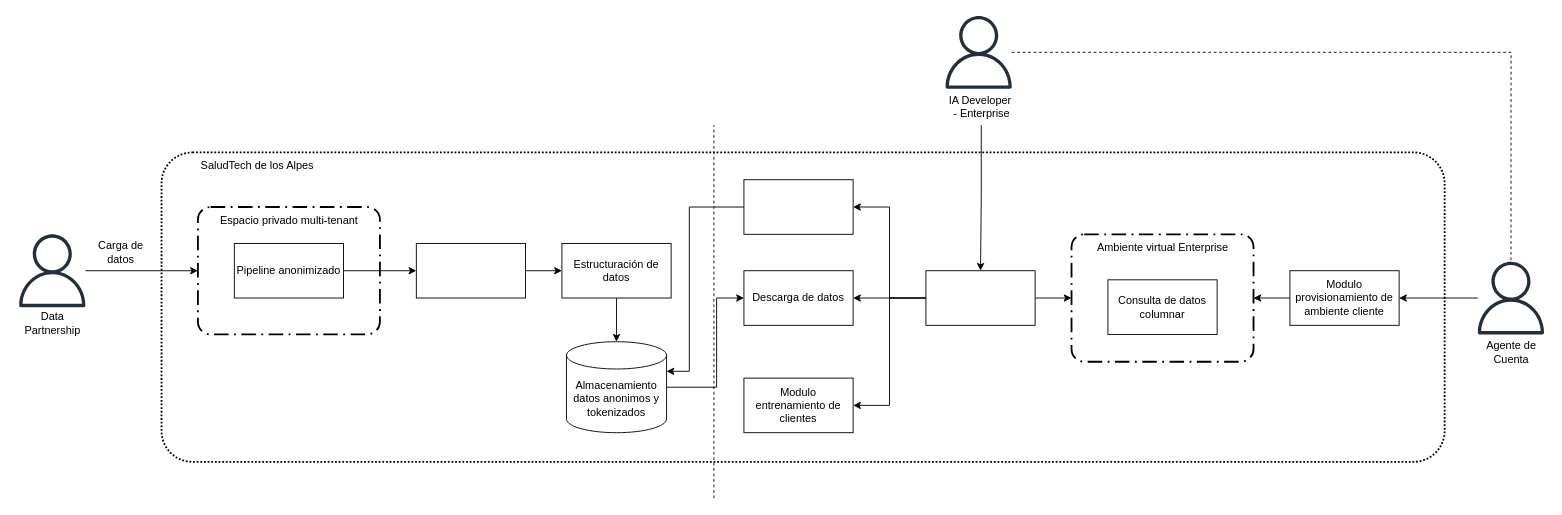
The diagram is 1562 pixels wide and 515 high, and some of its shapes have lost their labels. The centre of each missing label's shape, as x and y in pixels:
Sistema consulta de datos: (798,206)
Venta de licencia: (980,297)
Verificación de proceso anonimizado: (470,270)
